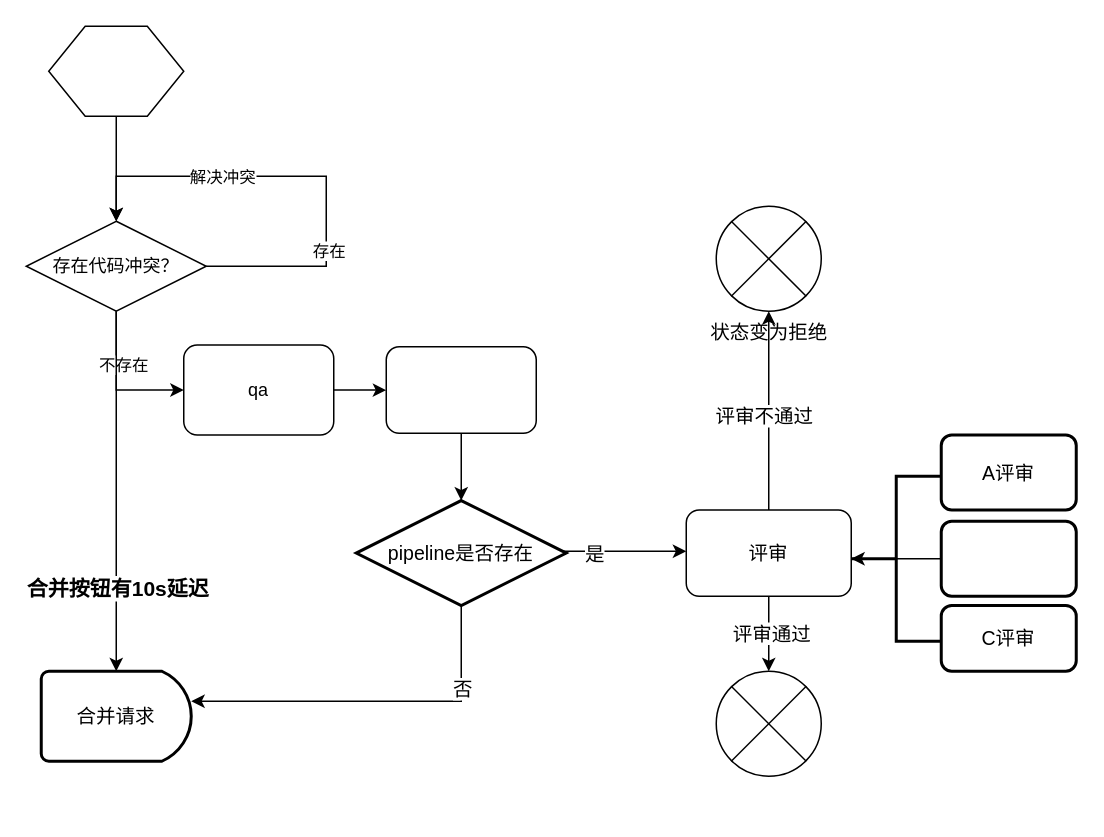
The diagram is 1104 pixels wide and 837 high, and some of its shapes have lost their labels. The centre of each missing label's shape, as x and y in pixels:
"B评审" goes at pixel 1008 558.
"checkruns" goes at pixel 460 389.
"发起MR" goes at pixel 115 70.
"直接合并" goes at pixel 768 723.
